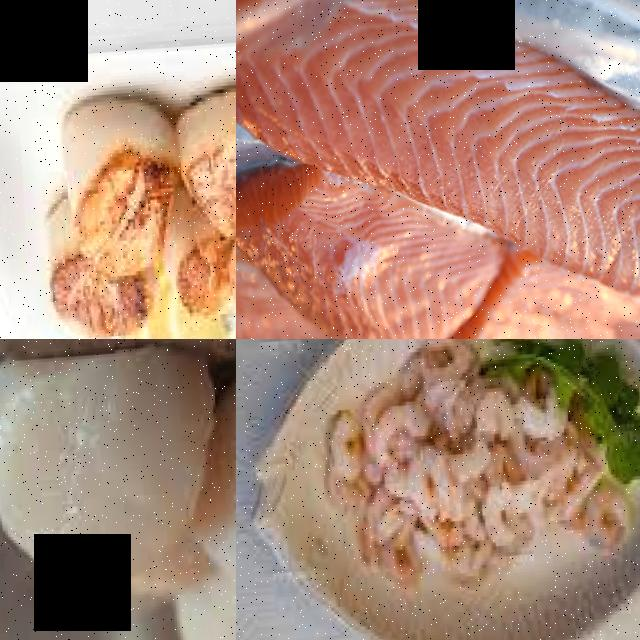salmon: (236, 0, 484, 195), (492, 69, 640, 321), (236, 169, 450, 339)
sea scallops: (0, 347, 221, 591), (56, 96, 168, 277), (169, 91, 236, 224), (33, 269, 137, 339), (158, 227, 226, 326)
shrimp: (576, 490, 629, 563), (402, 447, 451, 520), (323, 410, 361, 481)
